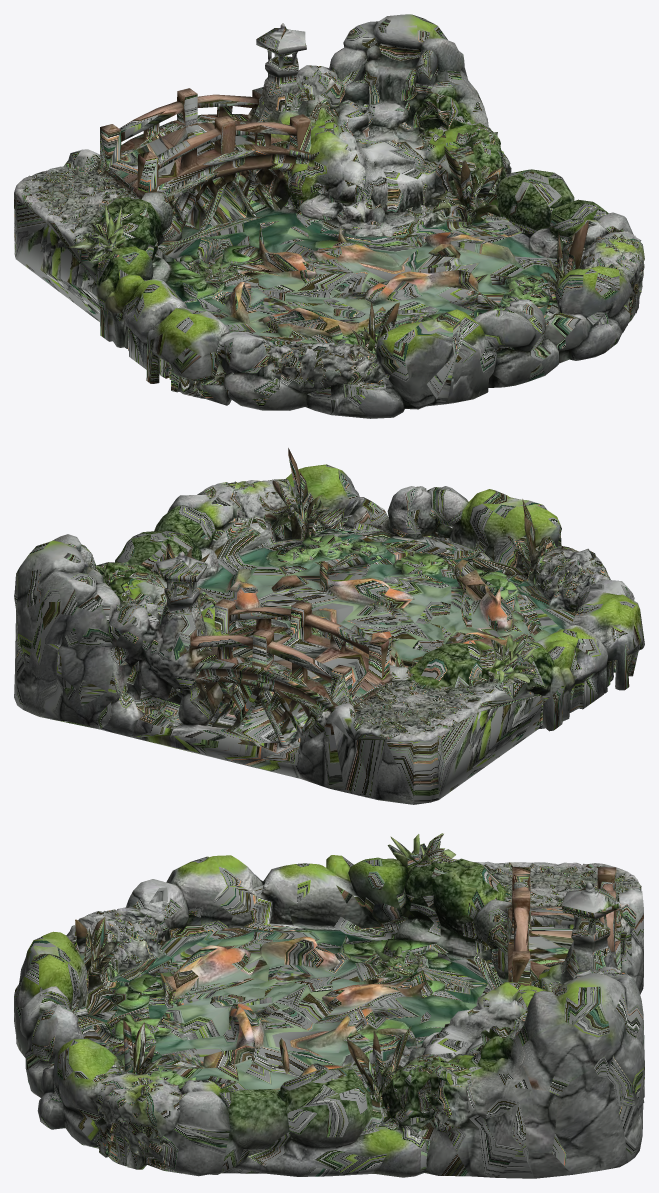
The model's file is Koi_Pond_with_Stone_B.glb.
3 views of the same model, one above another, from view 1: azimuth 30°, elevation 25°; view 2: azimuth 150°, elevation 25°; view 3: azimuth 270°, elevation 25° (orthographic). The views are drawn at different scales.
Visible parts, largest first — view 1: Koi_Pond_with_Stone_B; view 2: Koi_Pond_with_Stone_B; view 3: Koi_Pond_with_Stone_B.
Boxes of the visible parts, x1=… form: Koi_Pond_with_Stone_B: x1=14, y1=14, x2=644, y2=418; Koi_Pond_with_Stone_B: x1=14, y1=448, x2=644, y2=804; Koi_Pond_with_Stone_B: x1=14, y1=833, x2=644, y2=1178.
Size of the model in its own units: 1.85 by 0.6835 by 1.9.
1 material, 1 textured.
